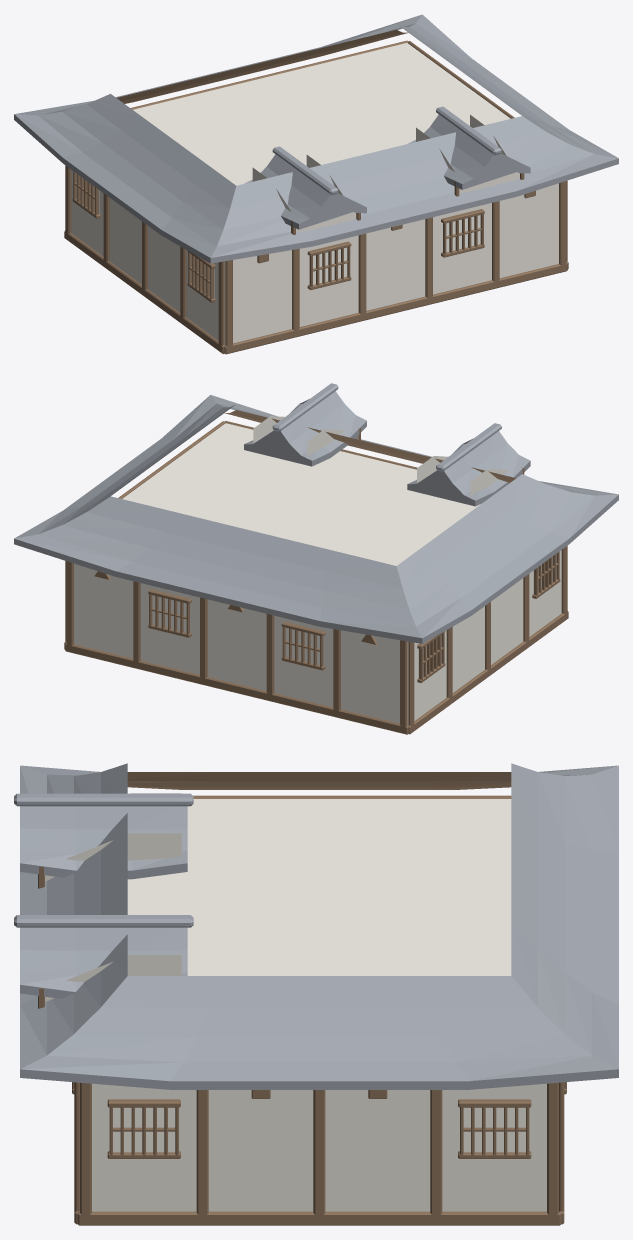
File: feudal-japan-castle-town-keep-tier-2-2b2da22b__26540.glb
3 renders of one model, top to bottom at view 1: azimuth 30°, elevation 25°; view 2: azimuth 150°, elevation 25°; view 3: azimuth 270°, elevation 25°, orthographic. The views are drawn at different scales.
Visible parts, largest first — view 1: keep-tier-2; view 2: keep-tier-2; view 3: keep-tier-2.
Part boxes in pixels (x1,y1,x2,y2): keep-tier-2: [14, 14, 618, 354]; keep-tier-2: [14, 383, 618, 734]; keep-tier-2: [14, 763, 618, 1225].
Bounding box in the file's own units: 12 × 4.44 × 10.1.
